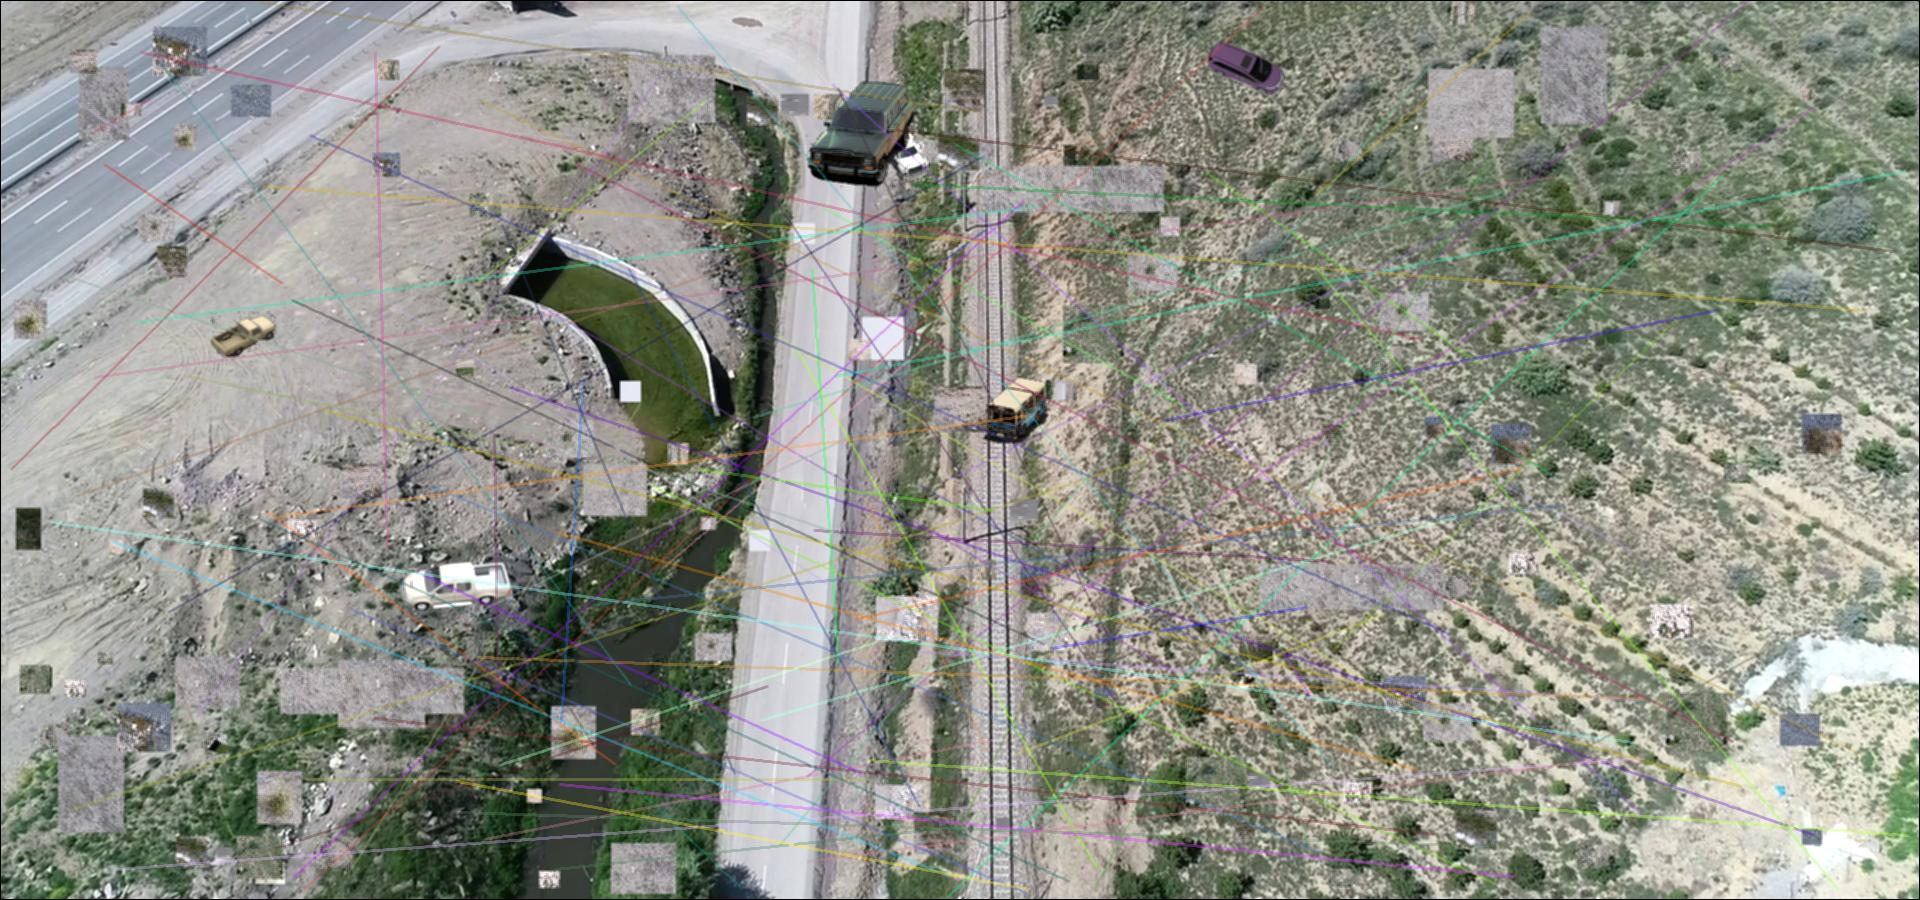arac: (806, 80, 913, 187), (400, 556, 516, 610), (1206, 39, 1284, 97), (984, 377, 1049, 443), (867, 115, 932, 180), (211, 312, 276, 358)
